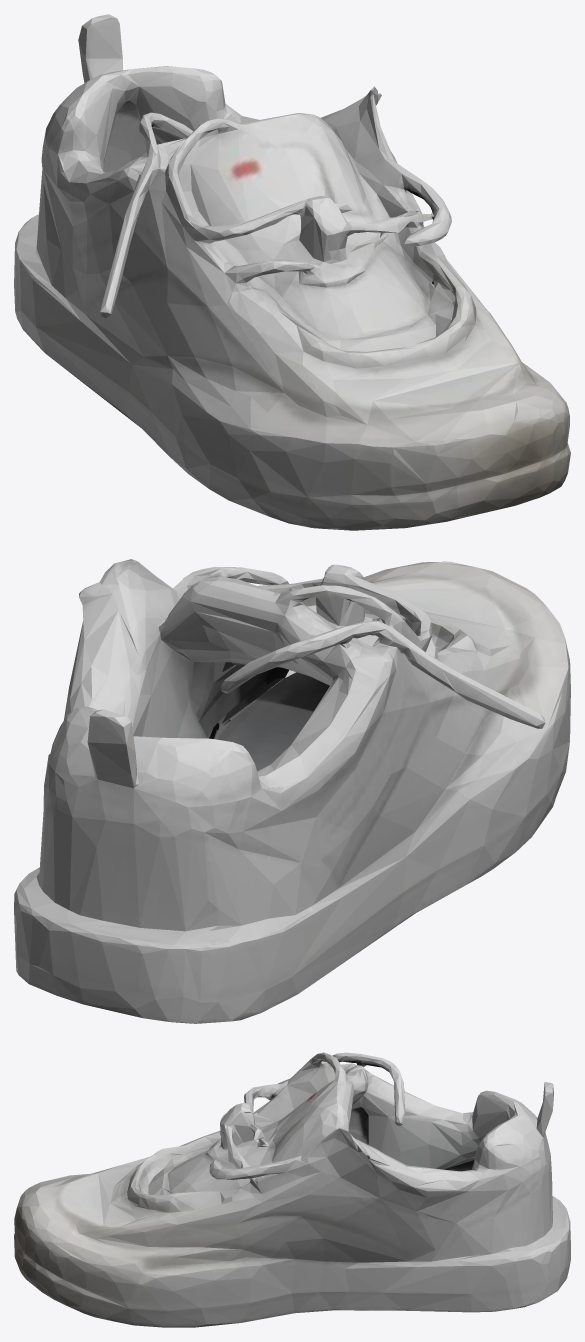
3 renders of one model, top to bottom at view 1: azimuth 30°, elevation 25°; view 2: azimuth 150°, elevation 25°; view 3: azimuth 270°, elevation 25°, orthographic. The views are drawn at different scales.
Visible parts, largest first — view 1: geometry_0; view 2: geometry_0; view 3: geometry_0.
Boxes of the visible parts, x1,y1,x2,y2 form: geometry_0: (14, 14, 570, 530); geometry_0: (14, 559, 570, 1023); geometry_0: (14, 1052, 570, 1327).
Bounding box in the file's own units: 0.5181 × 0.4019 × 0.9922.
1 material, 1 textured.
